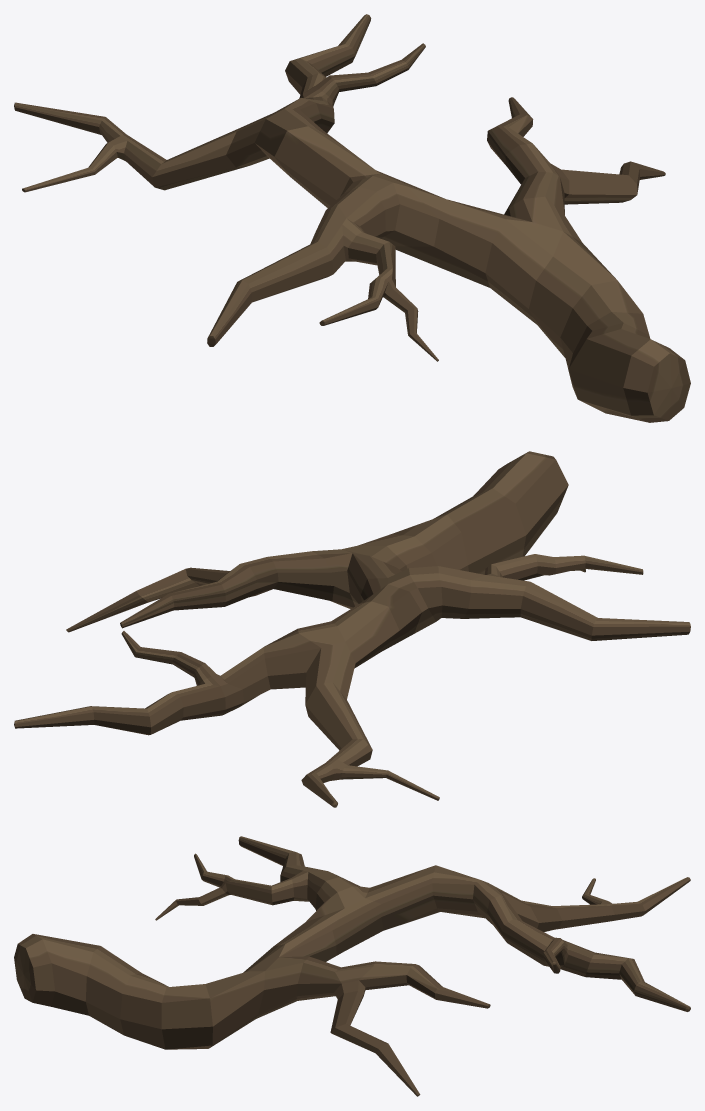
File: enchanted_SM_Env_Roots_02.gltf
The picture shows the model from 3 angles, top to bottom: view 1: azimuth 30°, elevation 25°; view 2: azimuth 150°, elevation 25°; view 3: azimuth 270°, elevation 25°; orthographic projection. The views are drawn at different scales.
Visible parts, largest first — view 1: SM_Env_Roots_02; view 2: SM_Env_Roots_02; view 3: SM_Env_Roots_02.
Part boxes in pixels (box(x1,y1,x2,y2)): SM_Env_Roots_02: box(14, 14, 690, 422); SM_Env_Roots_02: box(14, 451, 690, 807); SM_Env_Roots_02: box(14, 836, 690, 1096).
Bounding box in the file's own units: 2.86 × 0.8156 × 3.84.
Materials: 1 (1 with a texture image).
